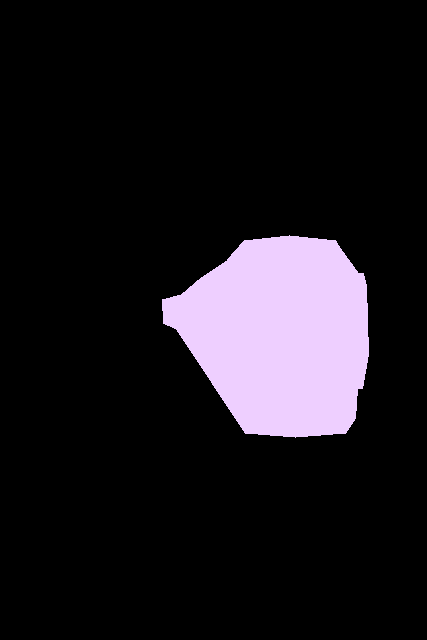Train: (162, 235, 368, 437)
